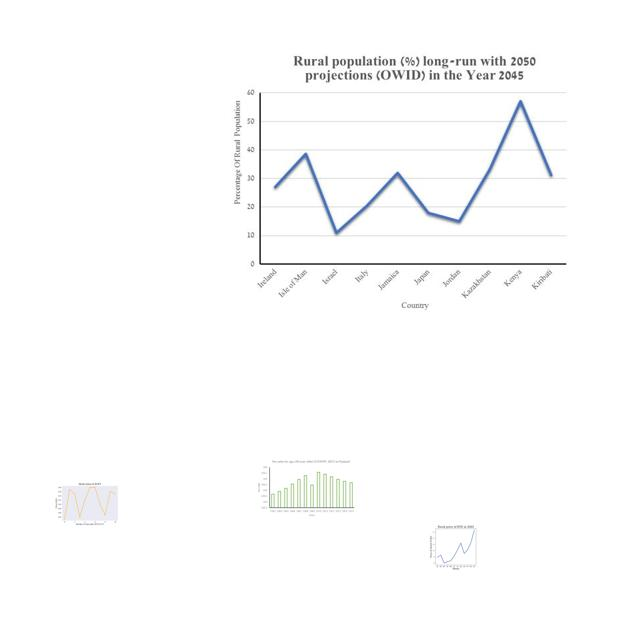Graph: (231, 53, 570, 312), (255, 459, 356, 518), (53, 476, 125, 530), (421, 523, 489, 570)
